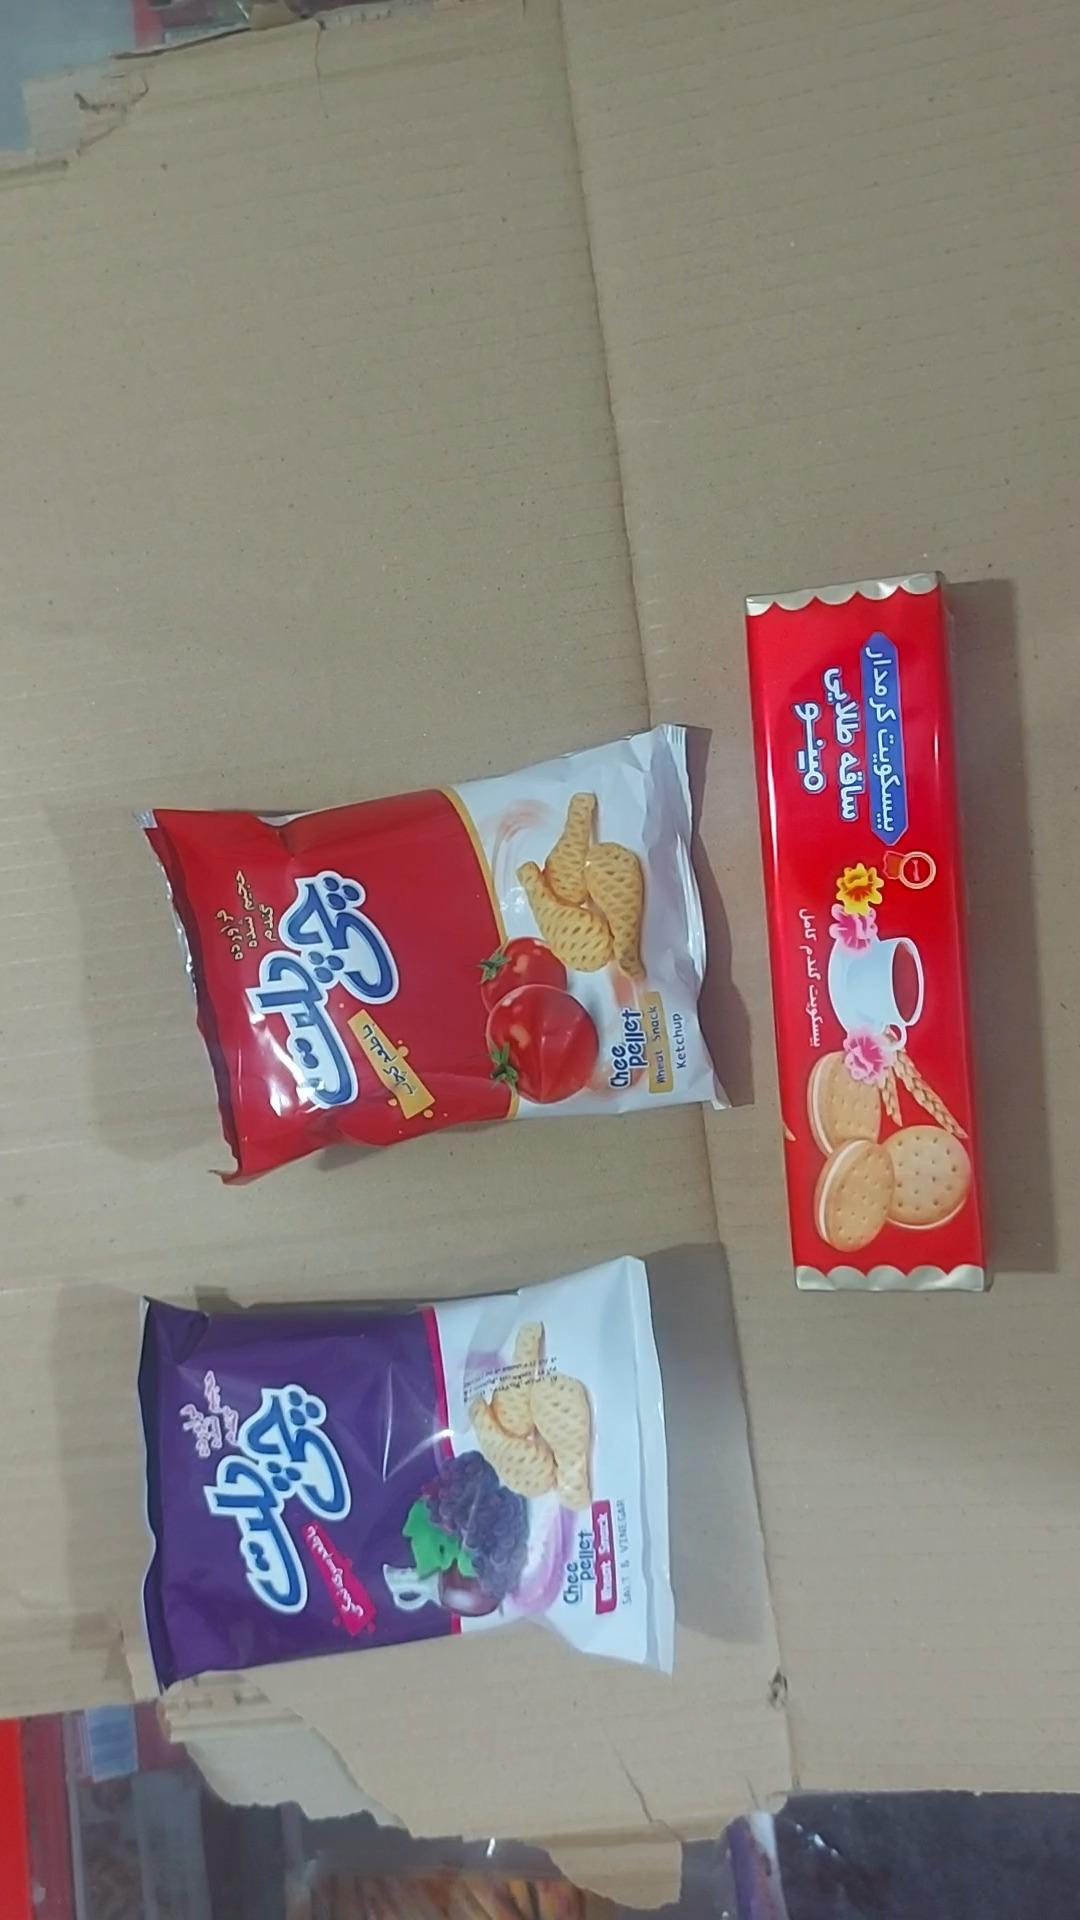Chee pellet ketchup: (137, 727, 736, 1188)
Chee pellet vinegar: (133, 1257, 675, 1695)
Minoo cream biscuit: (744, 574, 992, 1299)
